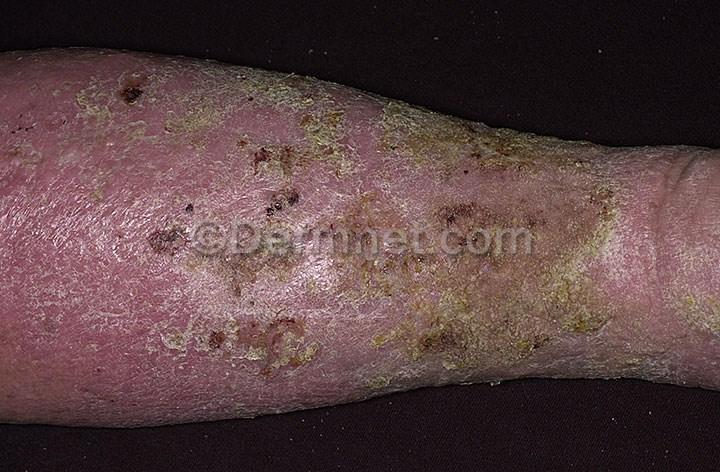Eczema: (0, 122, 119, 410), (122, 254, 352, 399), (135, 154, 352, 243), (350, 259, 481, 393), (56, 52, 206, 126), (578, 209, 680, 306), (348, 89, 460, 175), (216, 60, 322, 148), (475, 125, 595, 192), (487, 266, 577, 341), (583, 317, 680, 386), (686, 281, 720, 360)
